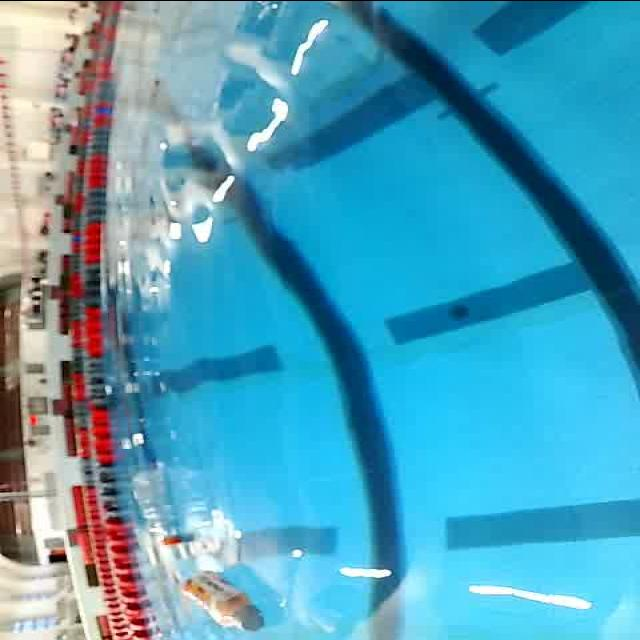Bottle: (176, 567, 274, 635), (125, 459, 187, 551)
